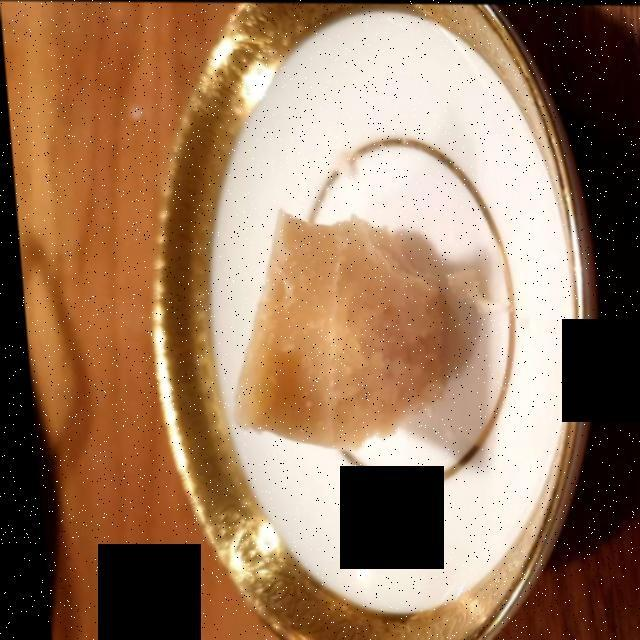cheese: (232, 218, 438, 441)
